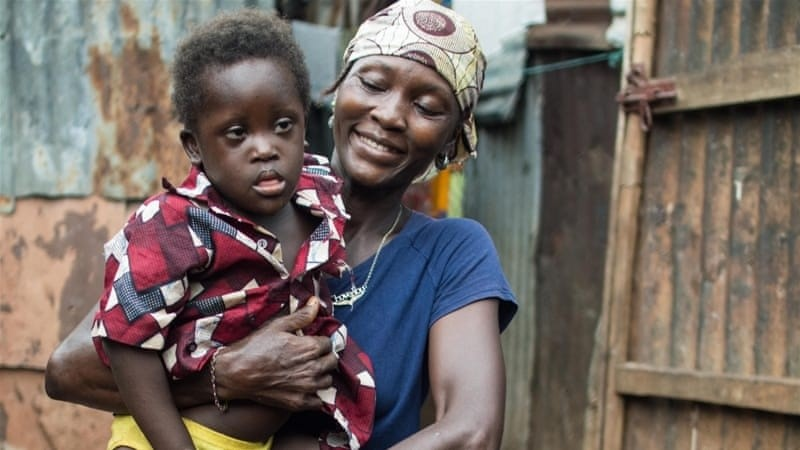face_no_mask: (175, 15, 312, 214), (326, 19, 467, 196)
